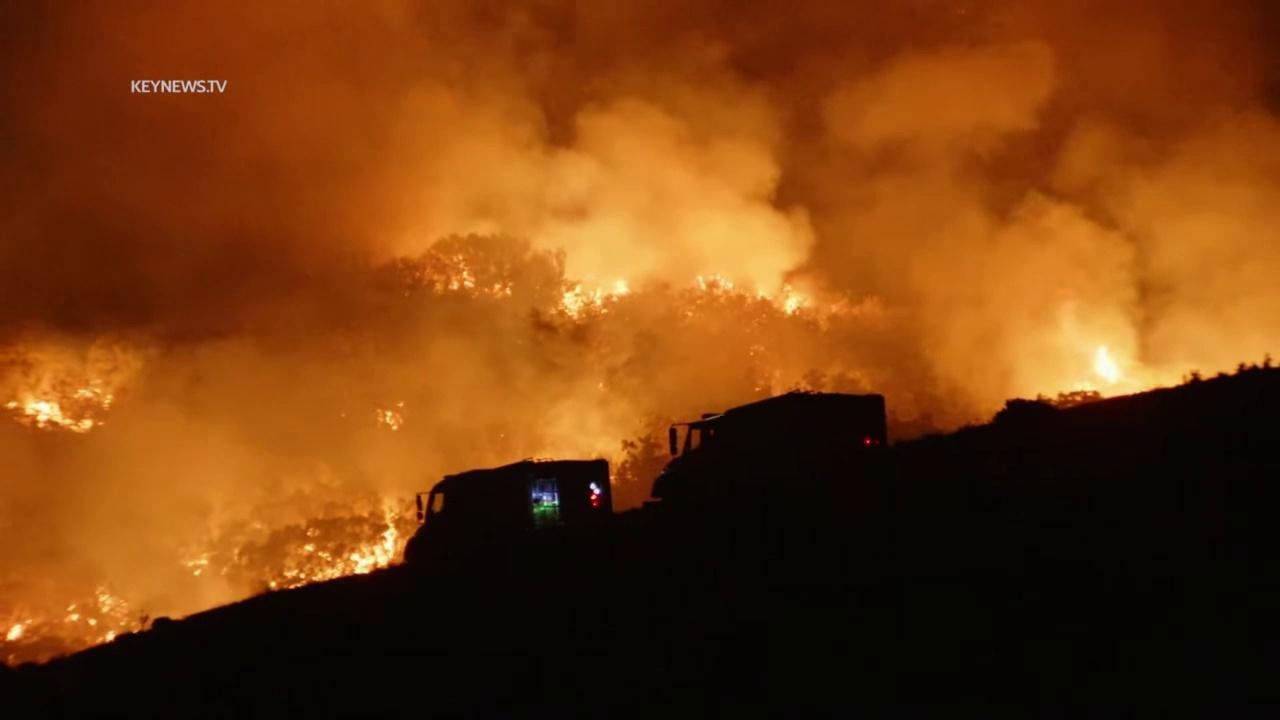fire: (269, 509, 401, 591), (3, 381, 116, 437), (560, 275, 632, 324), (443, 266, 515, 298), (94, 582, 132, 627), (1091, 341, 1123, 384), (781, 288, 815, 315), (693, 271, 734, 293), (372, 405, 404, 431), (3, 618, 34, 642), (184, 552, 211, 578), (65, 599, 81, 624), (756, 288, 776, 303), (103, 628, 118, 643), (86, 615, 97, 628)
smoke: (0, 0, 1280, 677)
